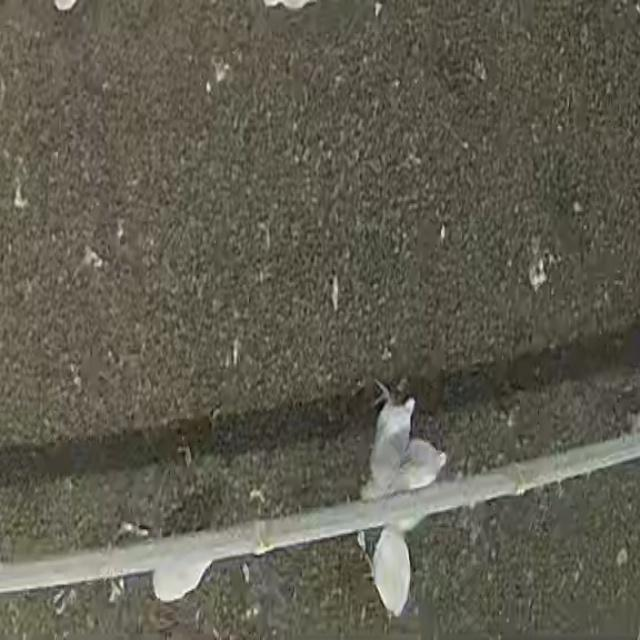chicken: (360, 372, 407, 492), (365, 524, 416, 624)
